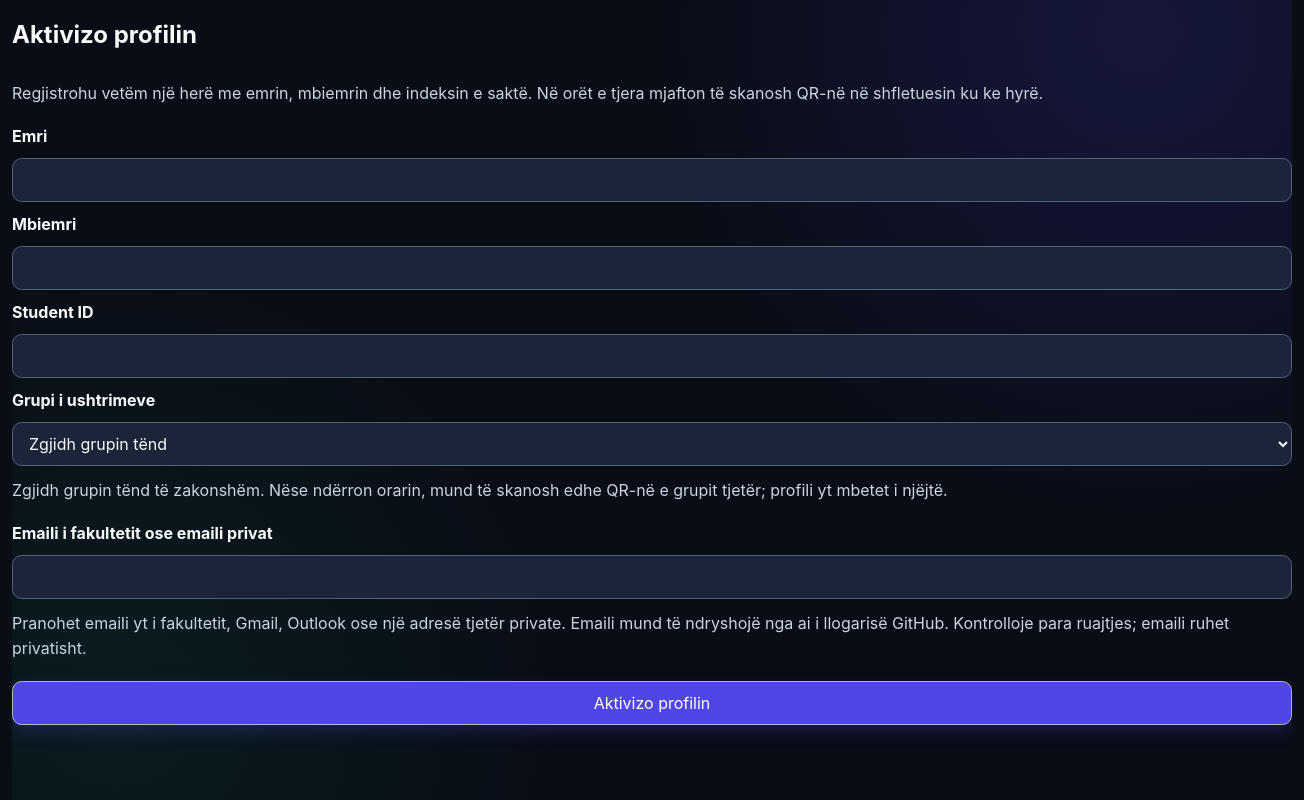
Scenario: student check-in › renders activation inline and resumes the scan after a successful match
The width and height of the screenshot is (1304, 800).
Type "arta@example.com" into the field labelled "Emaili i fakultetit ose emaili privat". click: {"x": 652, "y": 577}
box: [12,555,1292,599]
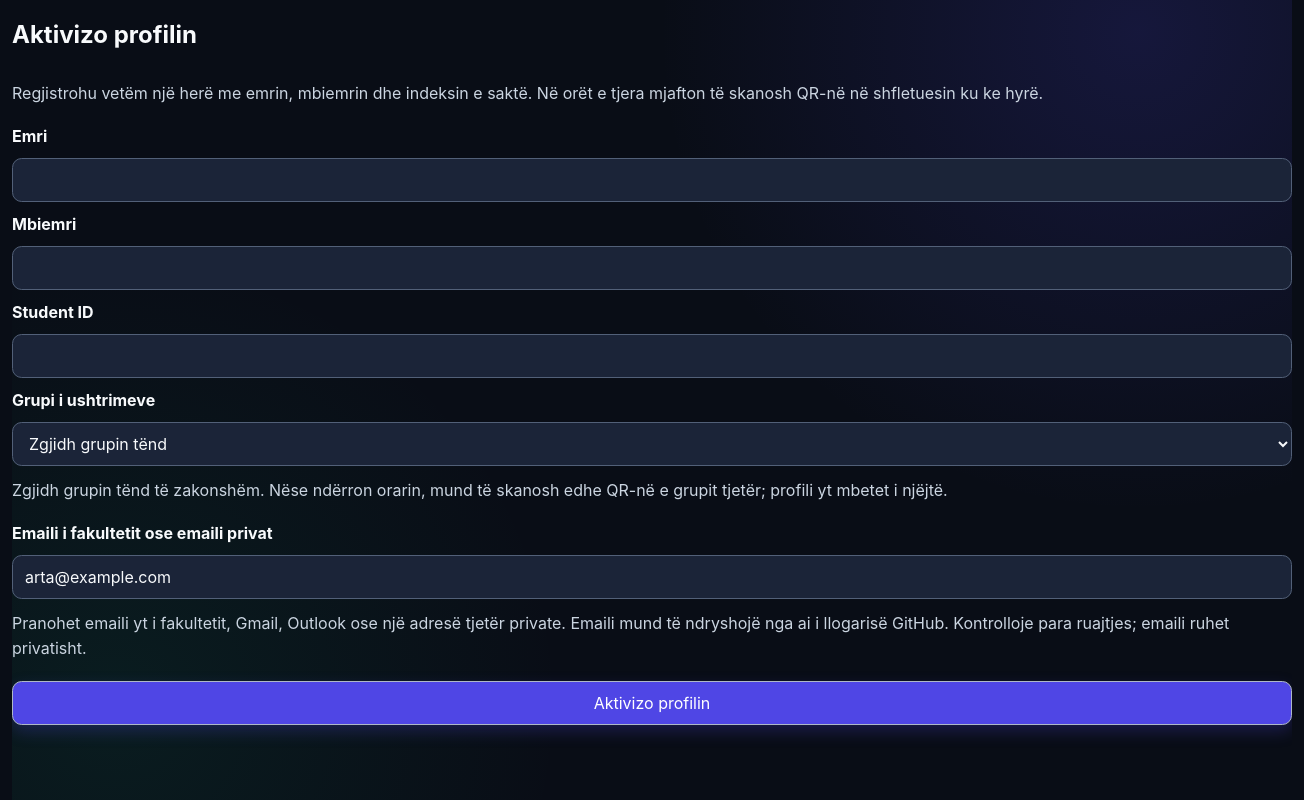
Select "Grupi 1 · 14:45" in the dropdown labelled "Grupi i ushtrimeve". click: {"x": 652, "y": 444}
box: [12,422,1292,466]
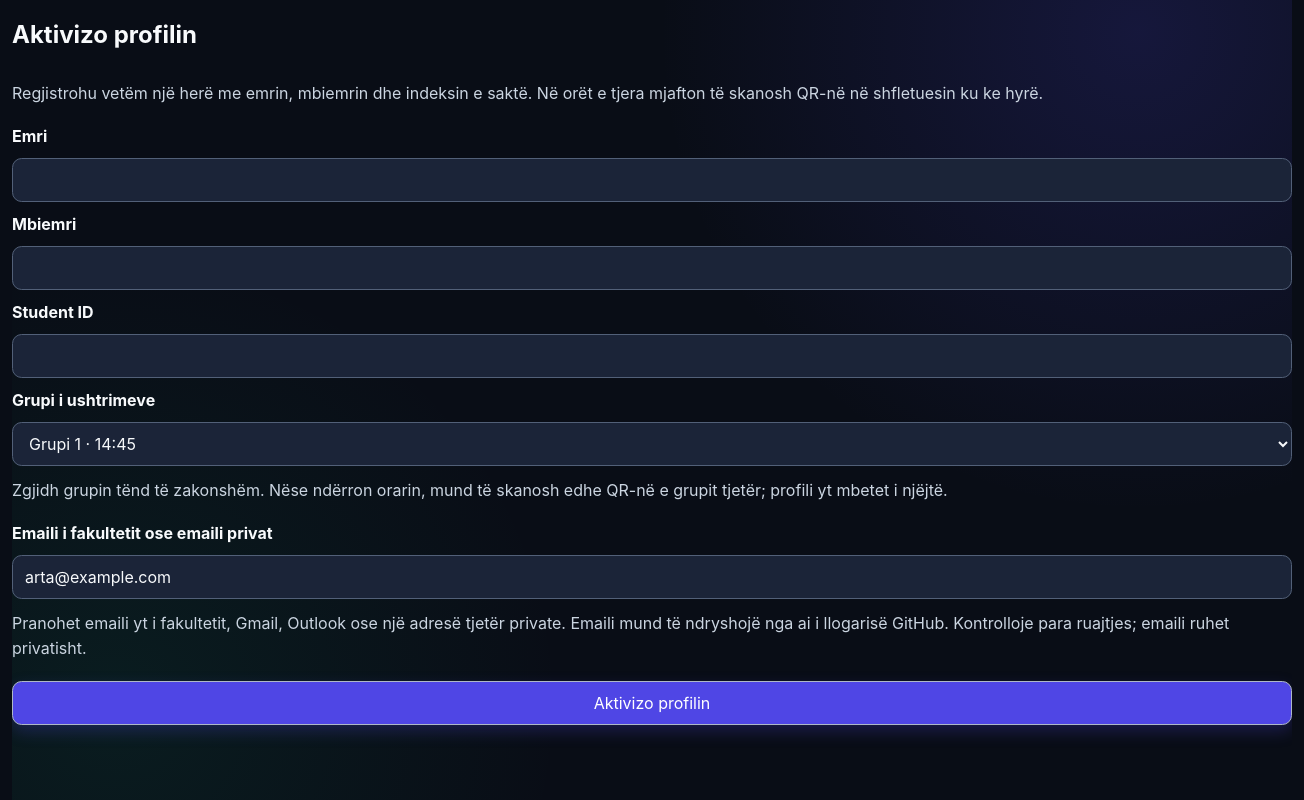
Type "Arta" into the field labelled "Emri". click: {"x": 652, "y": 180}
box: [12,158,1292,202]
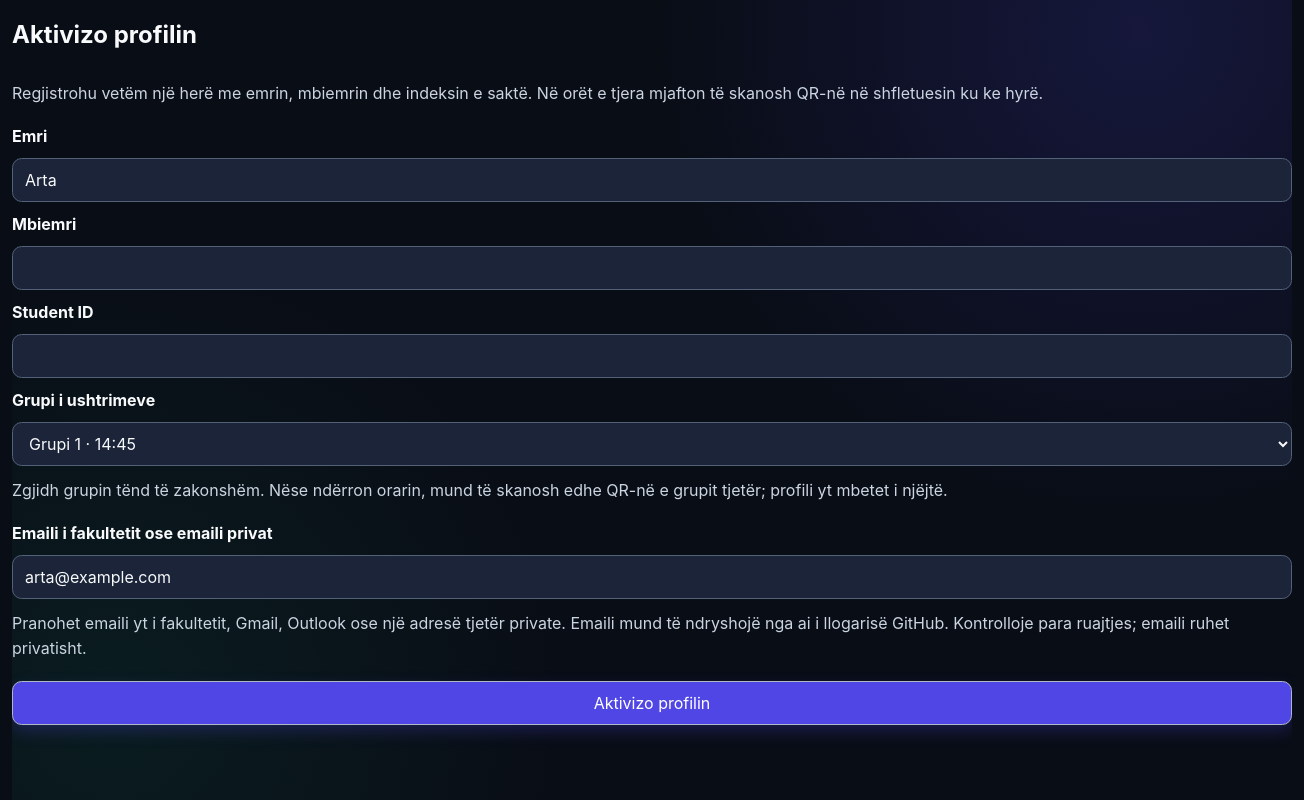
Type "Kola" into the field labelled "Mbiemri". click: {"x": 652, "y": 268}
box: [12,246,1292,290]
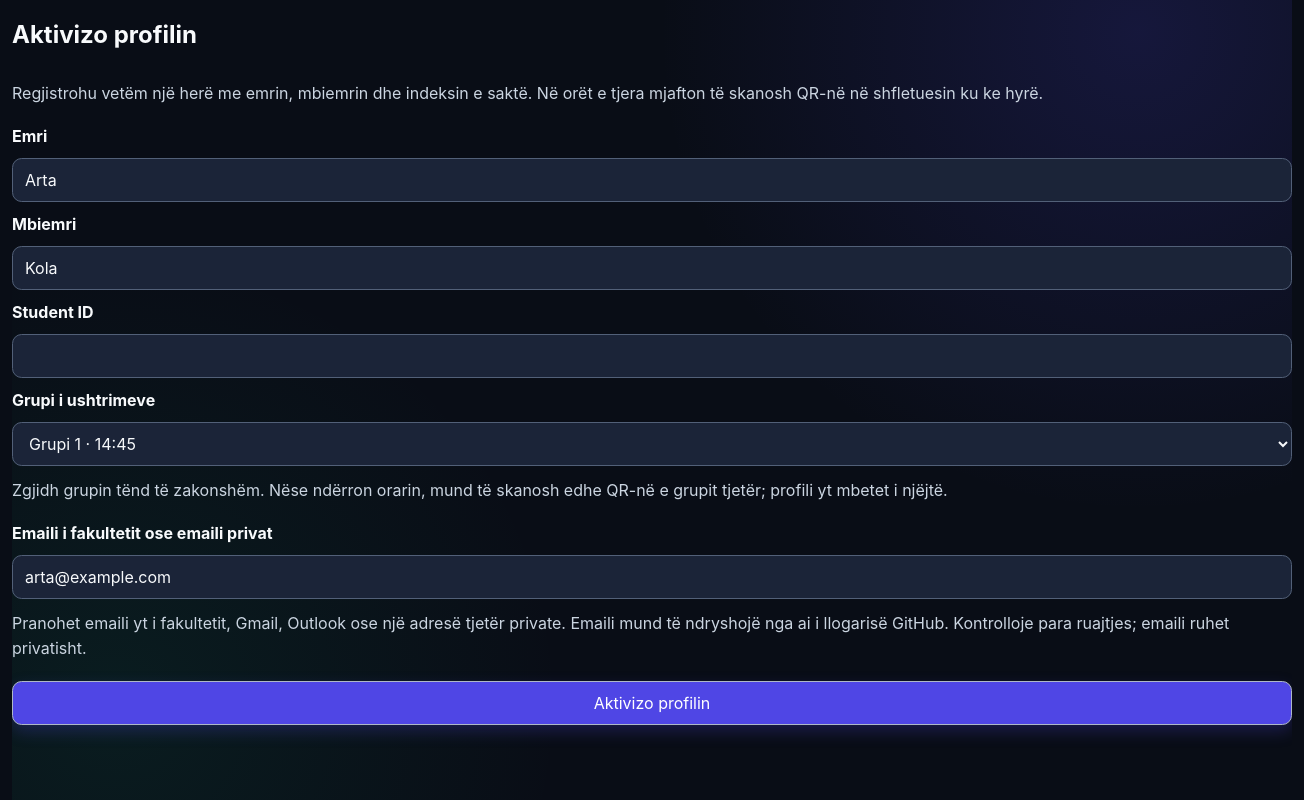
Type "A-100" into the field labelled "Student ID". click: {"x": 652, "y": 356}
box: [12,334,1292,378]
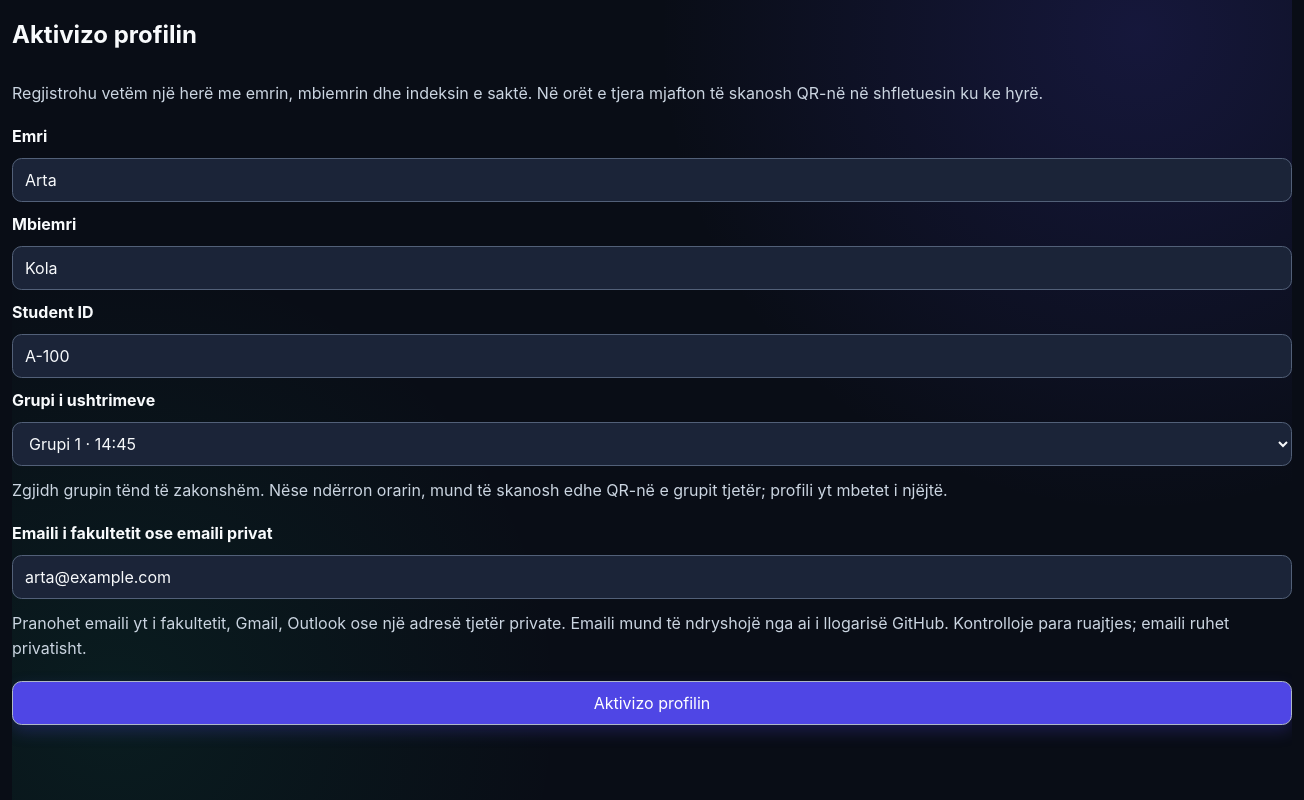
Submit the form named "aktivizo profilin"
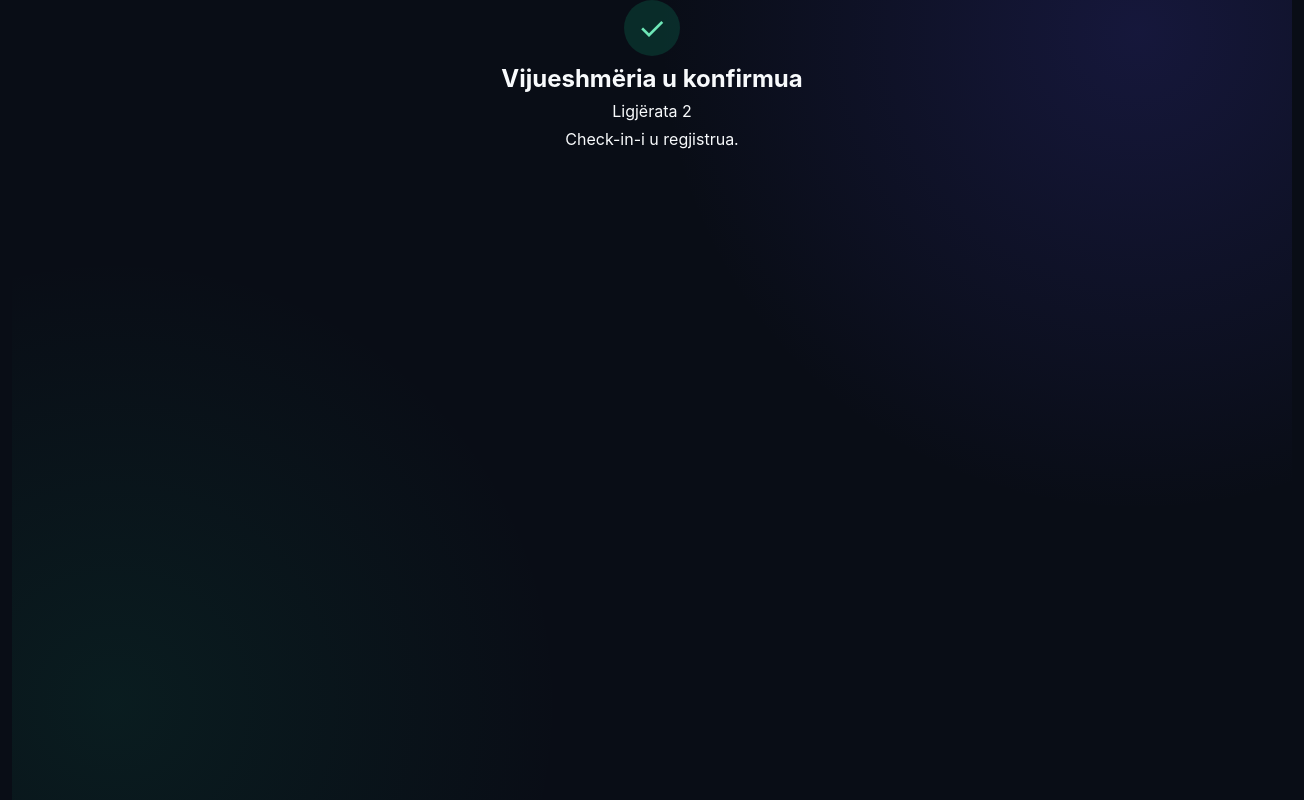
Check: the message shows "Ligjërata 2", box [612,101,692,121]
